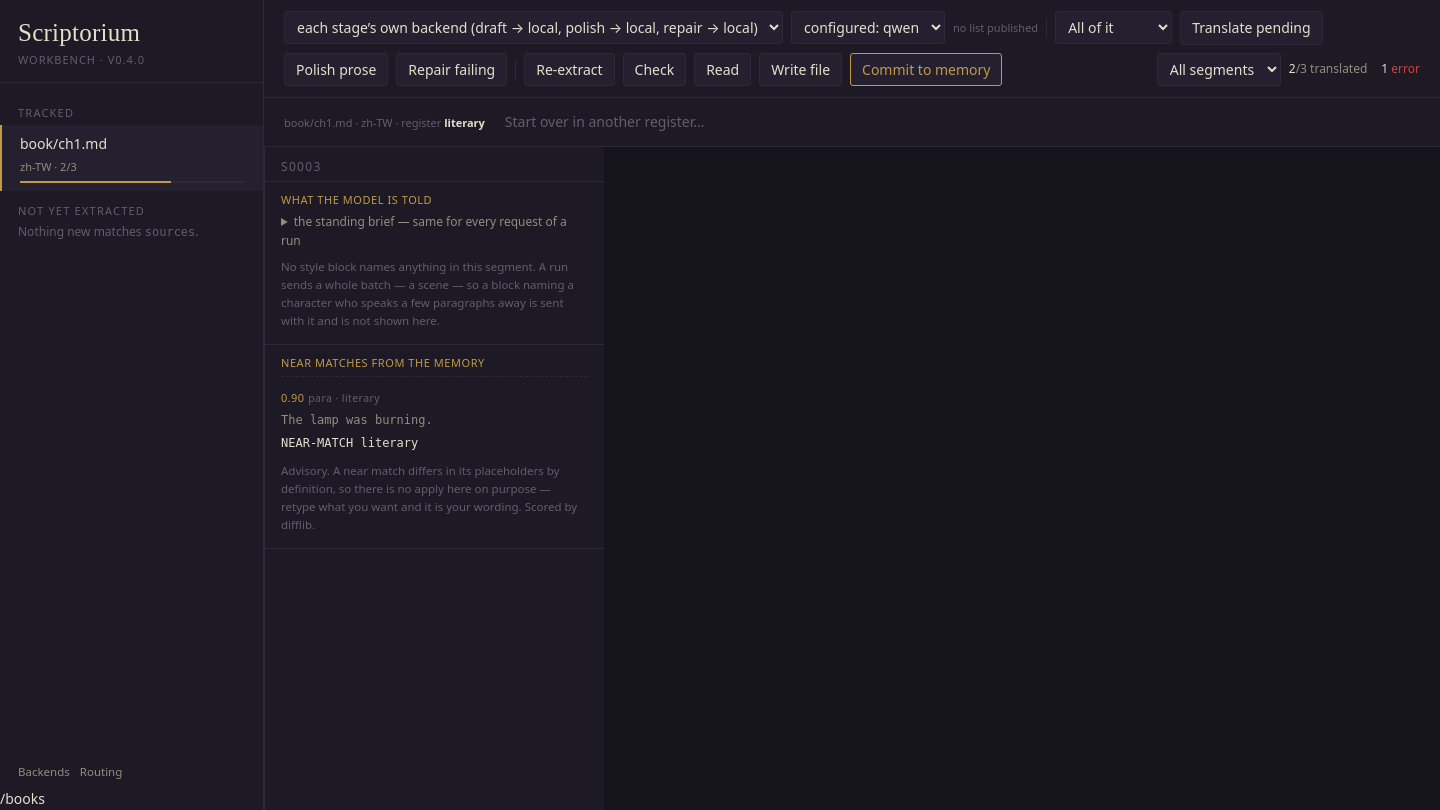
it: the margin after a re-parse › asks for near matches again when a refresh brings another register
Check: the text "NEAR-MATCH literary" is shown, box [281, 436, 418, 450]
Click the button "Check" at (654, 70), box [623, 53, 686, 86]
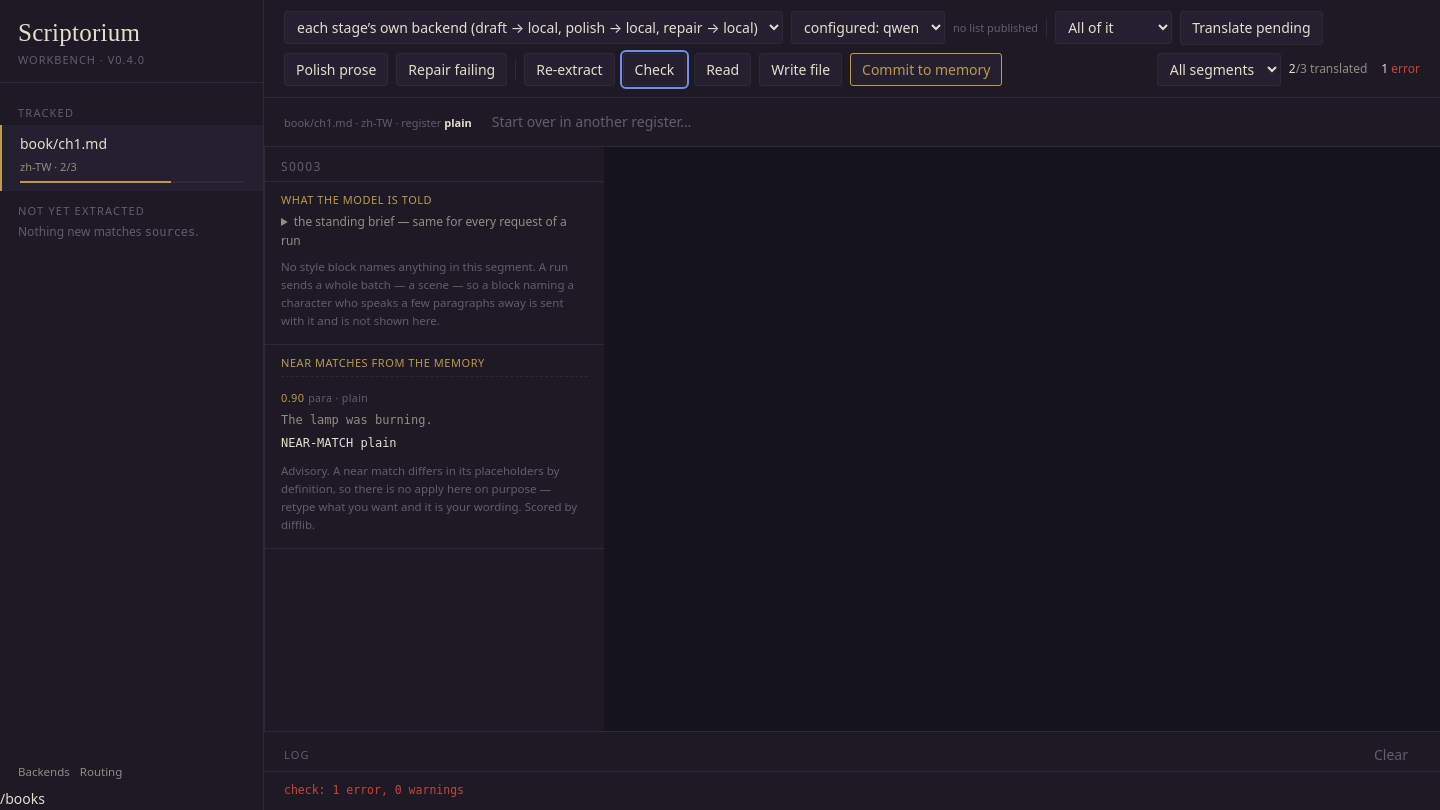
Check: the text "plain" is shown, box [444, 115, 472, 130]
Check: the text "NEAR-MATCH plain" is shown, box [281, 436, 397, 450]
